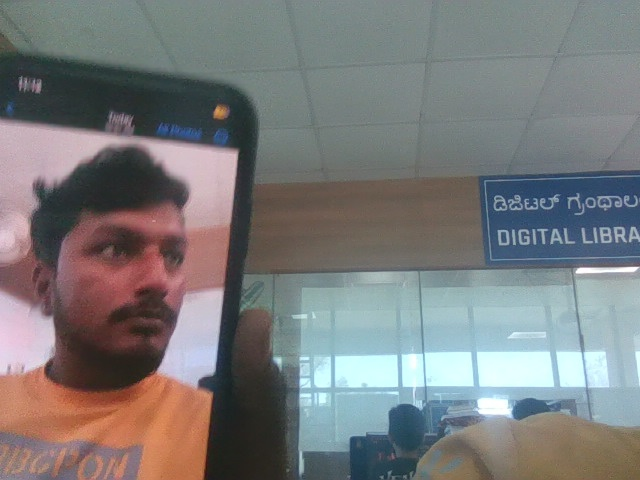fake: (34, 121, 221, 386)
